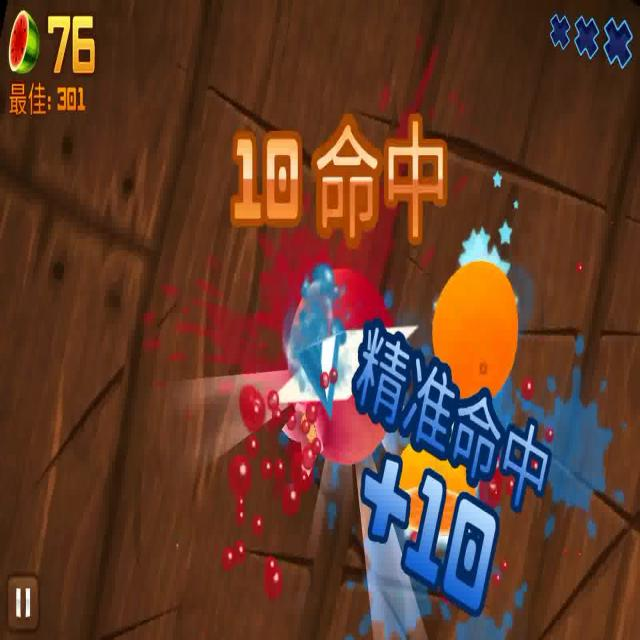fruit: (282, 266, 397, 464), (432, 264, 516, 399), (388, 443, 472, 527)
